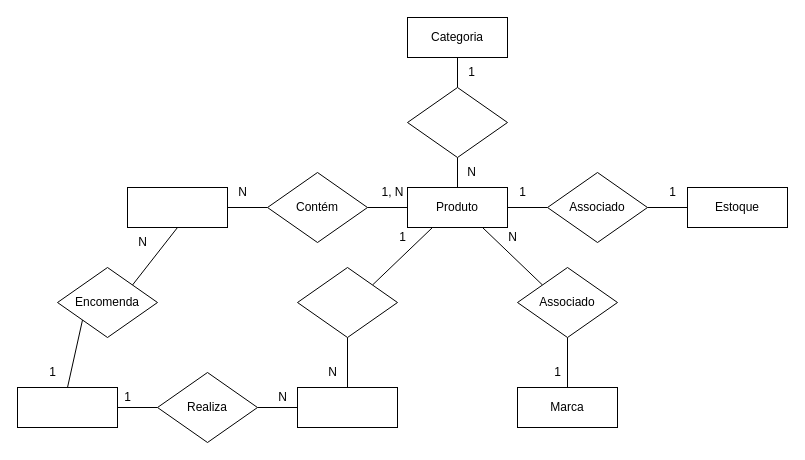
This 805x460 diagram has some shape labels left out. The centre of each missing label's shape, as x and y in pixels:
Associada: [347,302]
Avaliação: [347,407]
Cliente: [67,407]
Pedido: [177,207]
Pertence: [457,122]
